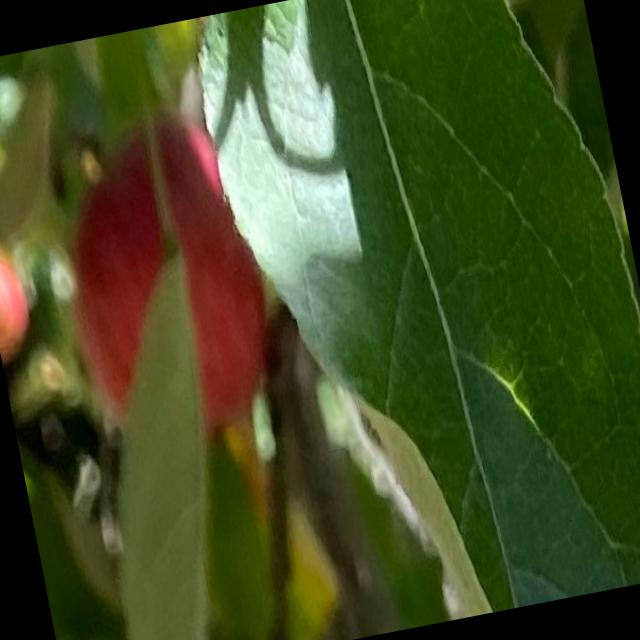Apples: (47, 107, 286, 454)
